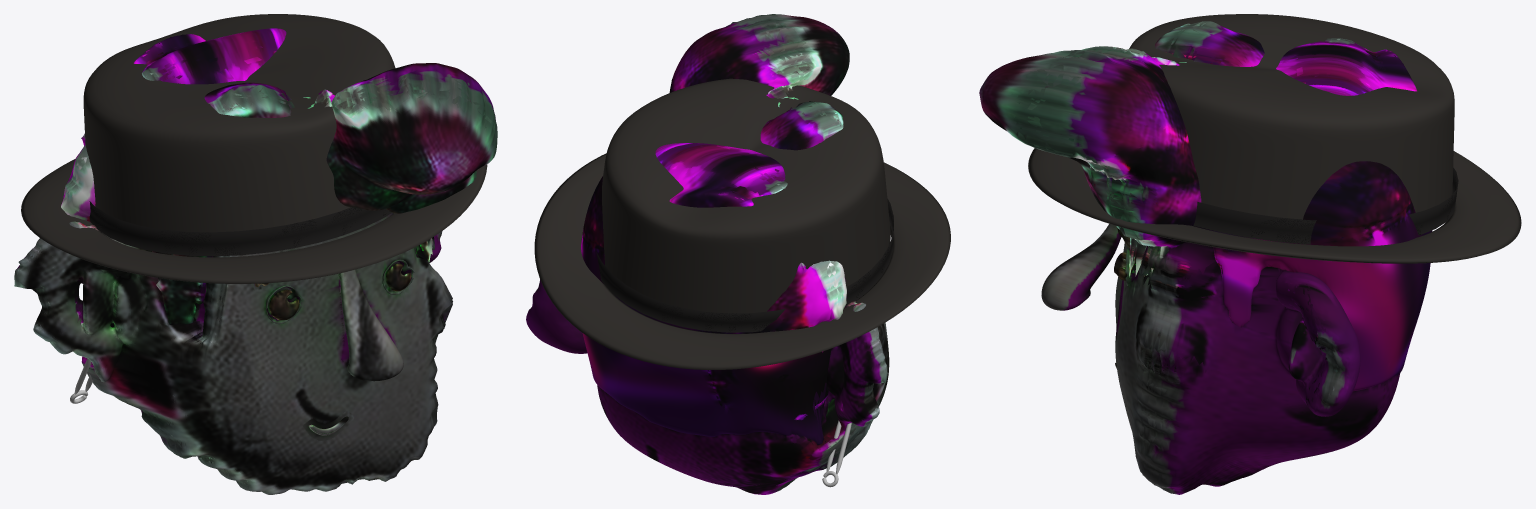
Rendered from face-riso.glb.
3 views of the same model, side by side, from view 1: azimuth 30°, elevation 25°; view 2: azimuth 150°, elevation 25°; view 3: azimuth 270°, elevation 25° (orthographic). The views are drawn at different scales.
Parts seen in each view (by area): view 1: Skin, Hat, Hair, HatBand, EyeL; view 2: Hat, Hair, Skin, HatBand, Pin; view 3: Hair, Hat, Skin, HatBand.
Part boxes in pixels (x1,y1,x2,y2): Skin: [14, 213, 452, 494]; Hat: [21, 14, 487, 283]; Hair: [61, 28, 497, 327]; HatBand: [89, 201, 392, 256]; EyeL: [269, 289, 299, 320]; Hat: [534, 78, 950, 369]; Hair: [581, 14, 849, 445]; Skin: [526, 279, 889, 494]; HatBand: [596, 198, 893, 332]; Pin: [822, 420, 851, 487]; Hair: [979, 21, 1432, 391]; Hat: [1028, 14, 1521, 263]; Skin: [1041, 224, 1400, 494]; HatBand: [1193, 168, 1458, 244].
Bounding box in the file's own units: 2.95 × 3.06 × 3.34.
Materials: 11 (7 with a texture image).
